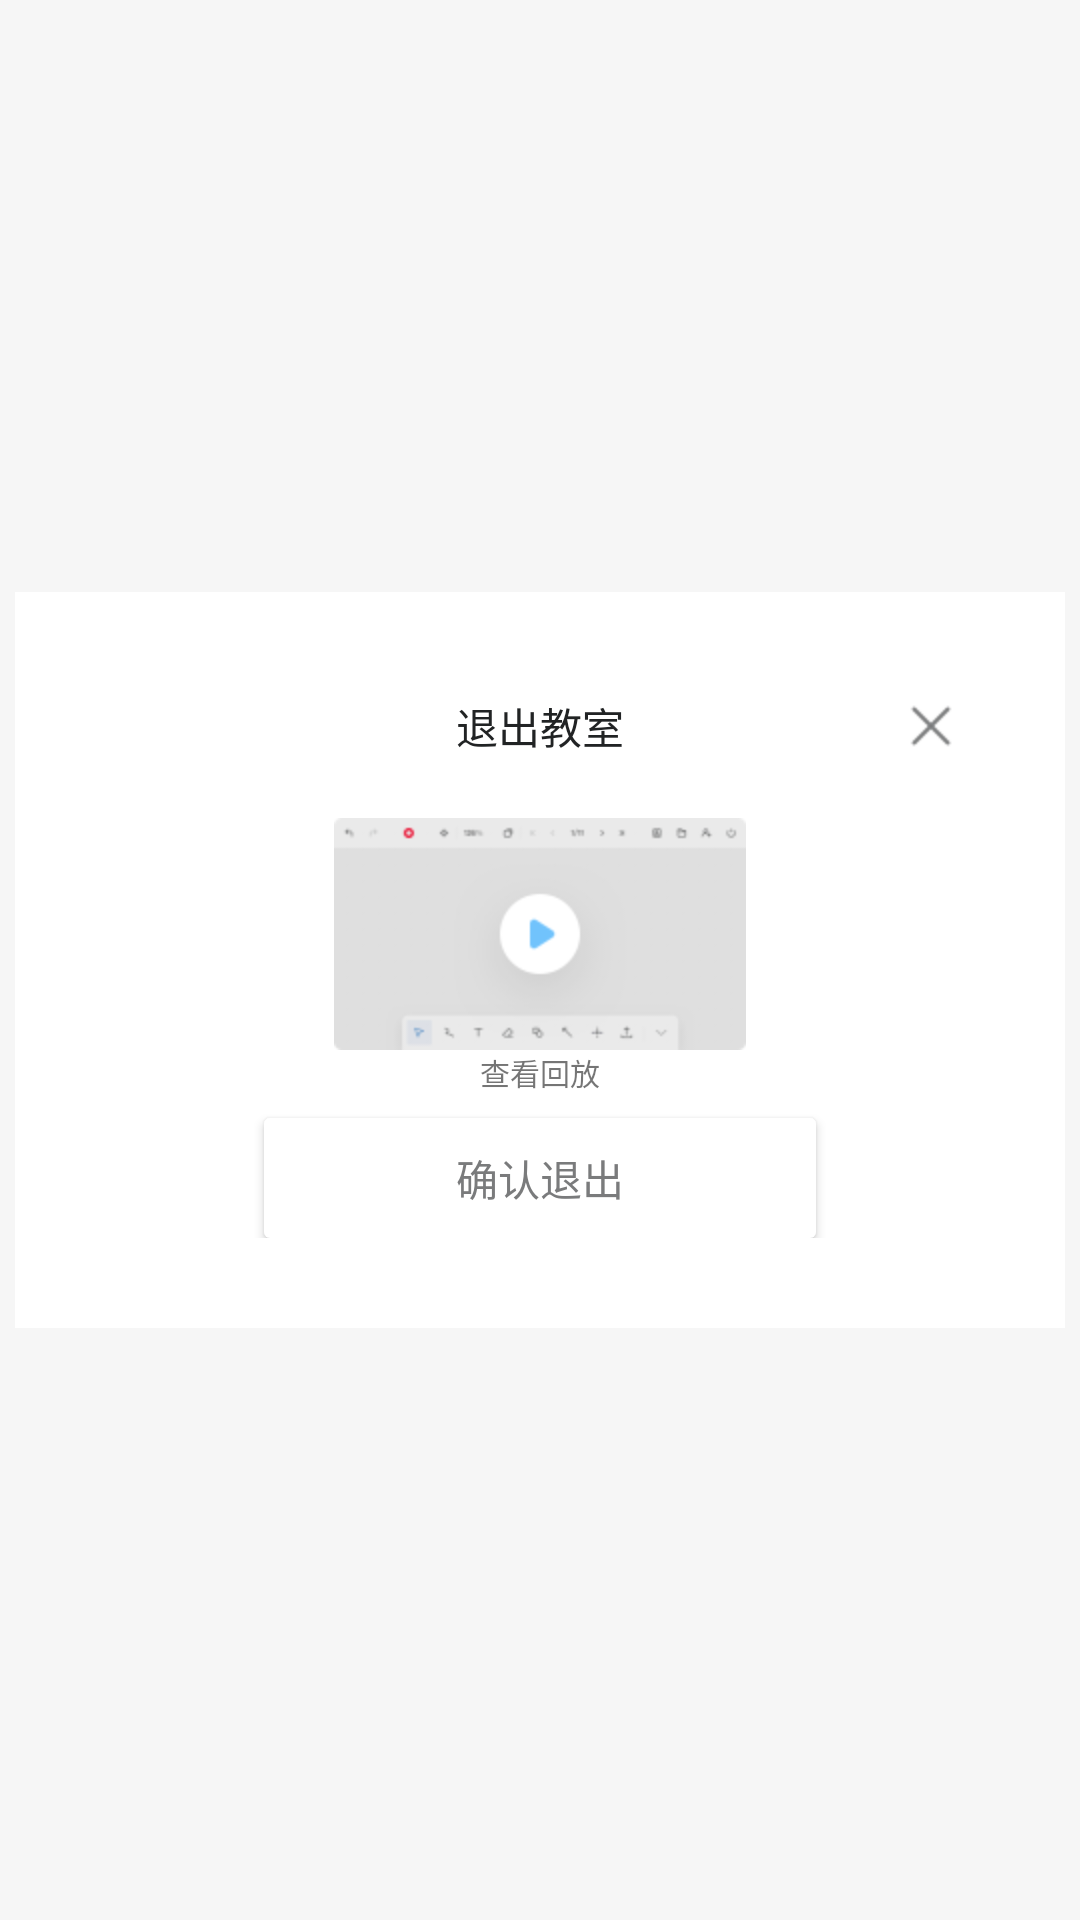

Named icons in this screenshot (1080px×1920px) and their bounding boxes, BBox(x1, y1, x2, y2):
close: BBox(911, 706, 951, 746)
